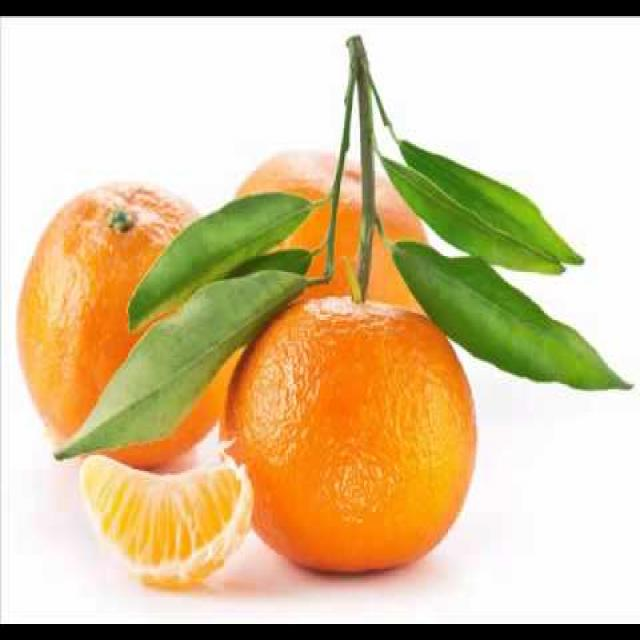orange: (18, 157, 517, 601)
